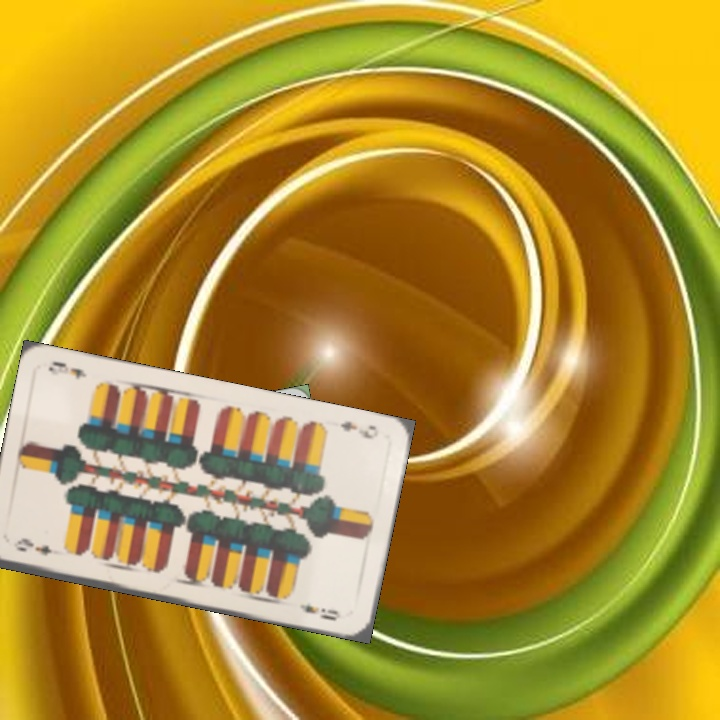E9: (336, 417, 381, 442), (9, 536, 55, 559)
